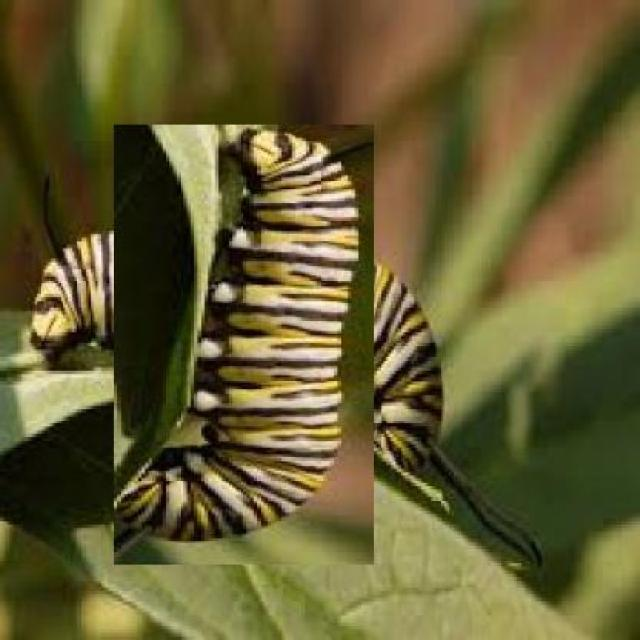Plaga: (69, 169, 422, 522)
